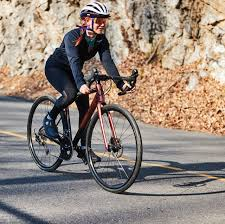Bicycle: (26, 69, 143, 197)
